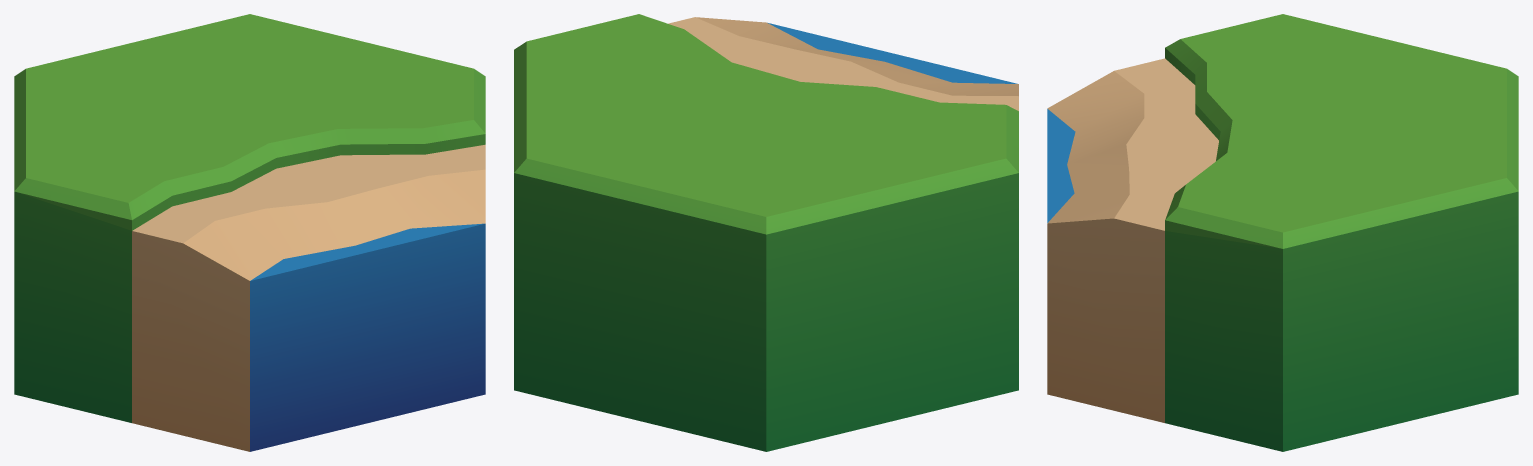
The model's file is hex_coast_1.glb.
3 renders of one model, left to right at view 1: azimuth 30°, elevation 25°; view 2: azimuth 150°, elevation 25°; view 3: azimuth 270°, elevation 25°, orthographic. The views are drawn at different scales.
Parts seen in each view (by area): view 1: hex_coast_1; view 2: hex_coast_1; view 3: hex_coast_1.
Boxes of the visible parts, x1,y1,x2,y2 form: hex_coast_1: (14,14,485,451); hex_coast_1: (514,14,1018,451); hex_coast_1: (1047,14,1518,451).
Size of the model in its own units: 1.15 by 0.5 by 1.
1 material, 1 textured.
